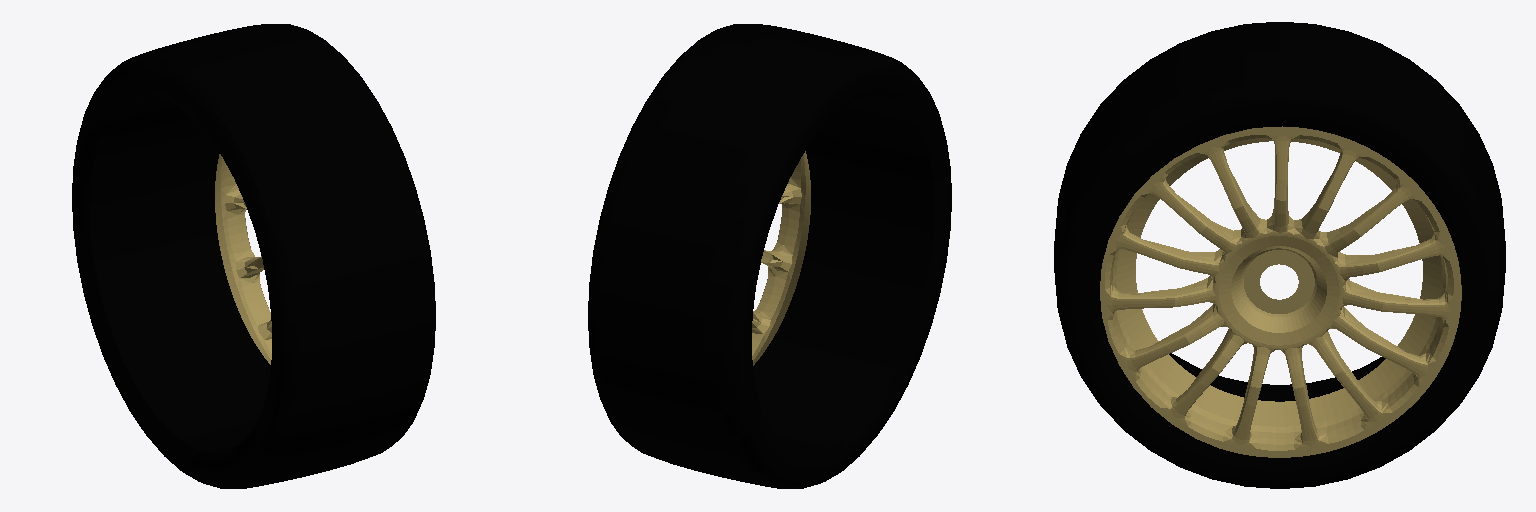
Rendered from impreza_wheel.obj.
3 views of the same model, side by side, from view 1: azimuth 30°, elevation 25°; view 2: azimuth 150°, elevation 25°; view 3: azimuth 270°, elevation 25° (orthographic).
Visible parts, largest first — view 1: pneu1_Line07, Felga10; view 2: pneu1_Line07, Felga10; view 3: pneu1_Line07, Felga10.
Boxes of the visible parts, <box> form: pneu1_Line07: <box>72,24,435,488</box>; Felga10: <box>215,154,271,364</box>; pneu1_Line07: <box>588,24,951,488</box>; Felga10: <box>752,151,810,365</box>; pneu1_Line07: <box>1054,22,1505,488</box>; Felga10: <box>1100,126,1461,457</box>.
Bounding box in the file's own units: 0.3218 × 0.7945 × 0.7945.